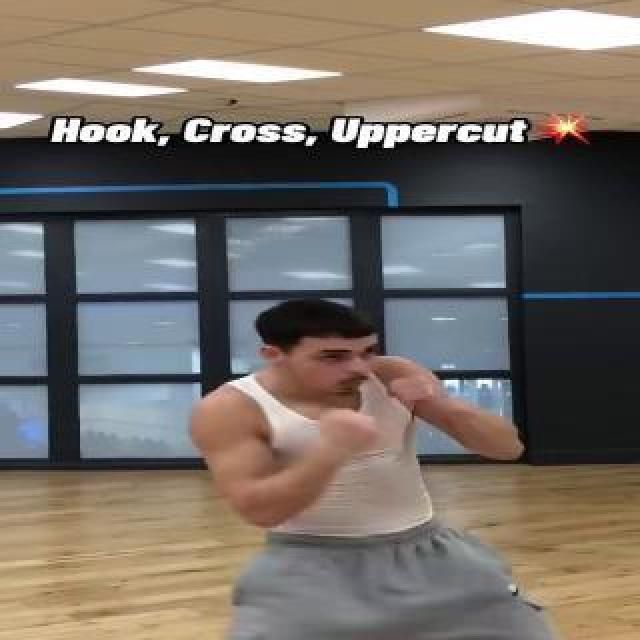fight: (185, 274, 565, 640)
